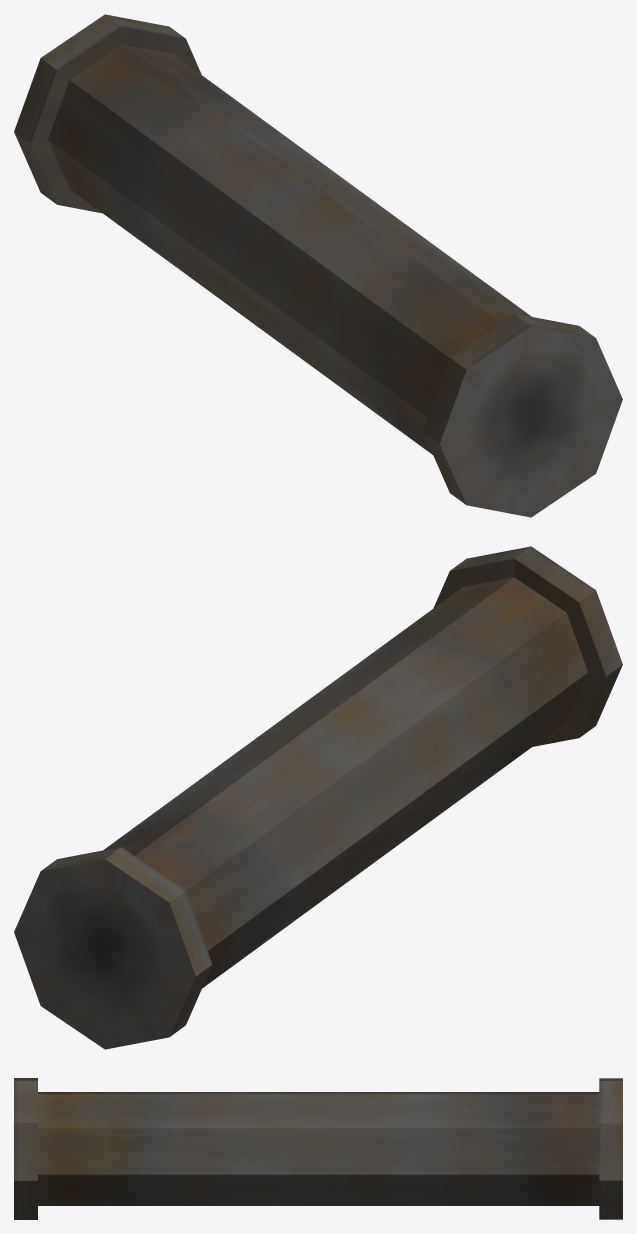
File: pipe_double_grime.obj
3 views of the same model, one above another, from view 1: azimuth 30°, elevation 25°; view 2: azimuth 150°, elevation 25°; view 3: azimuth 270°, elevation 25° (orthographic). The views are drawn at different scales.
Visible parts, largest first — view 1: pipe_double_grime; view 2: pipe_double_grime; view 3: pipe_double_grime.
Part boxes in pixels (box(x1,y1,x2,y2)): pipe_double_grime: box(14, 14, 622, 517); pipe_double_grime: box(14, 546, 622, 1049); pipe_double_grime: box(14, 1078, 622, 1219).
Bounding box in the file's own units: 0.124 × 0.124 × 0.5.
